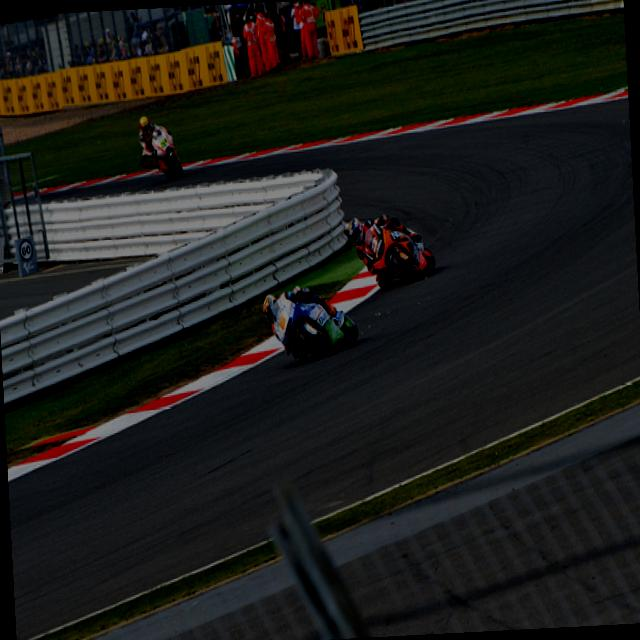Vehicle: (270, 294, 360, 366), (358, 212, 438, 284), (150, 126, 184, 180)
